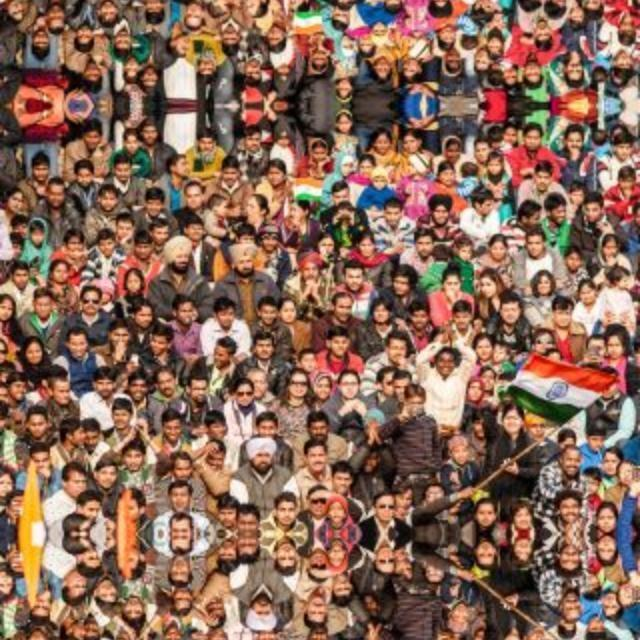person: (422, 324, 480, 412), (60, 322, 110, 382), (158, 232, 194, 294), (249, 442, 291, 482), (249, 586, 291, 626), (222, 378, 266, 416), (110, 397, 132, 438), (109, 630, 132, 640)
